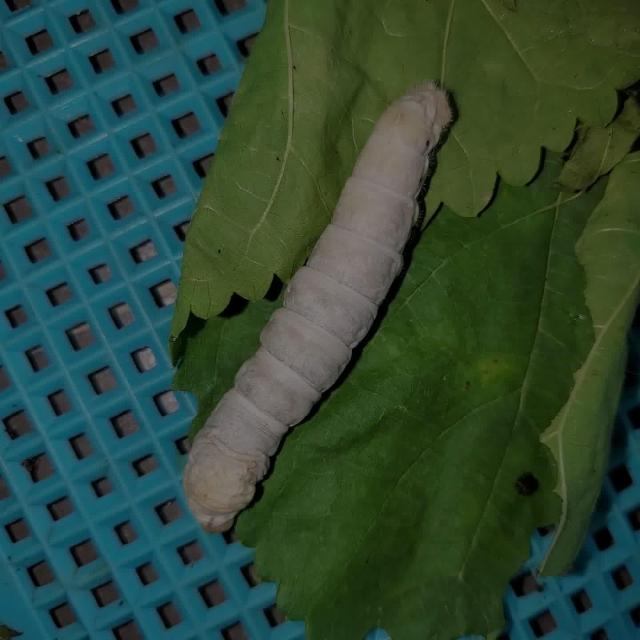Grasserie: (165, 72, 464, 534)
